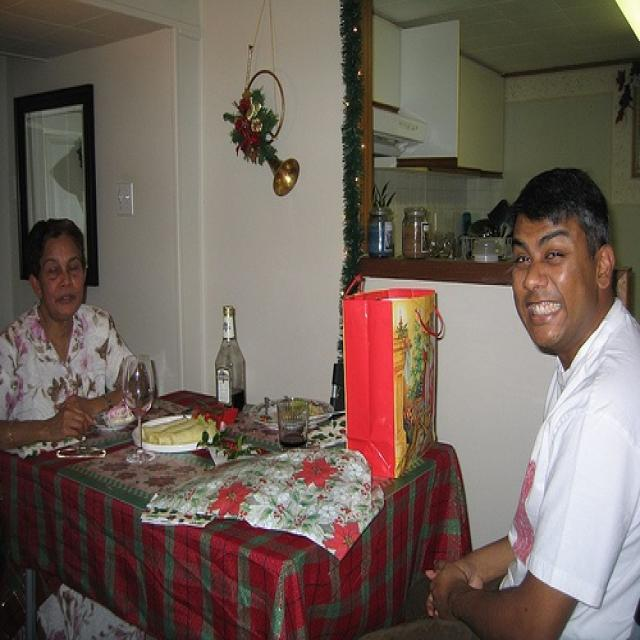bottle: (213, 303, 247, 411)
diningtable: (10, 387, 481, 639)
person: (389, 167, 640, 639), (1, 218, 146, 450)
